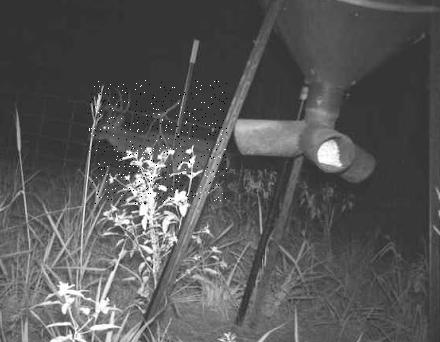Deer: (88, 80, 227, 204)
